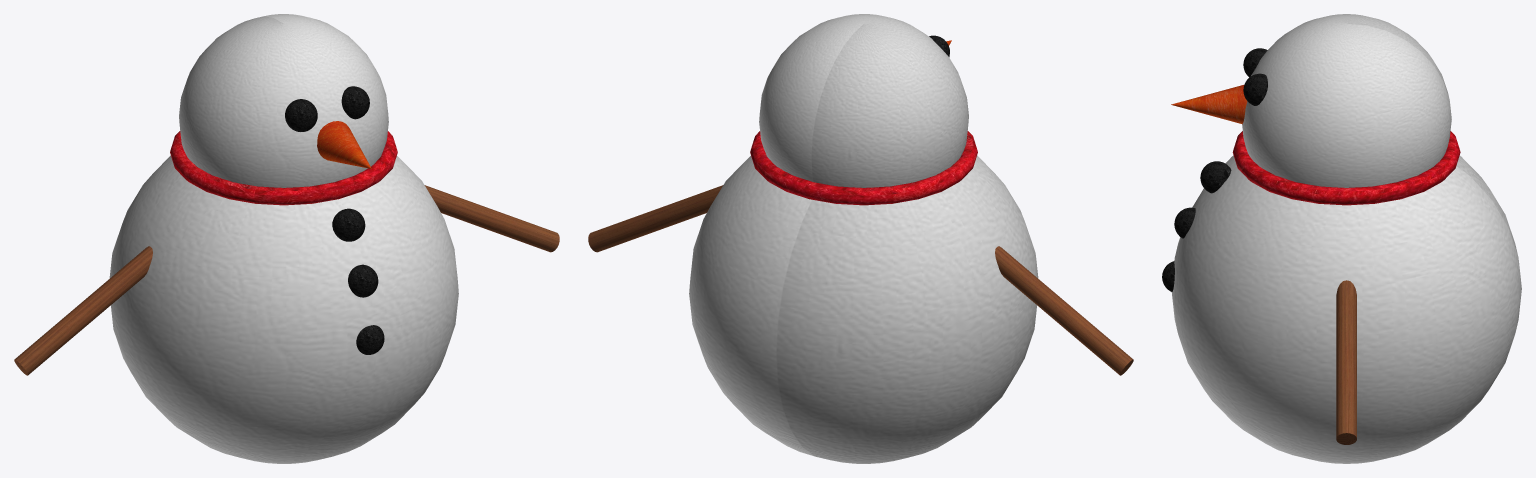
Rendered from Snowman(Decor).fbx.
The picture shows the model from 3 angles, left to right: view 1: azimuth 30°, elevation 25°; view 2: azimuth 150°, elevation 25°; view 3: azimuth 270°, elevation 25°; orthographic projection.
Visible parts, largest first — view 1: Body, Head, Scarf, Hand1, Hand2, Nose, Button2, Eye1, Button1, Eye2, Button3; view 2: Body, Head, Scarf, Hand1, Hand2; view 3: Body, Head, Scarf, Hand2, Nose, Button2, Eye2, Button1, Eye1.
Boxes of the visible parts, left/top/right/bottom form: Body: left=109, top=155, right=458, bottom=463; Head: left=179, top=14, right=388, bottom=187; Scarf: left=170, top=131, right=397, bottom=205; Hand1: left=14, top=246, right=152, bottom=375; Hand2: left=424, top=185, right=559, bottom=252; Nose: left=317, top=121, right=371, bottom=168; Button2: left=332, top=208, right=365, bottom=241; Eye1: left=285, top=99, right=317, bottom=131; Button1: left=348, top=264, right=378, bottom=297; Eye2: left=341, top=86, right=369, bottom=119; Button3: left=356, top=325, right=384, bottom=354; Body: left=689, top=155, right=1038, bottom=463; Head: left=759, top=14, right=968, bottom=187; Scarf: left=750, top=131, right=977, bottom=205; Hand1: left=995, top=246, right=1133, bottom=375; Hand2: left=588, top=185, right=723, bottom=252; Body: left=1171, top=155, right=1521, bottom=463; Head: left=1242, top=14, right=1451, bottom=187; Scarf: left=1232, top=131, right=1460, bottom=205; Hand2: left=1336, top=280, right=1356, bottom=444; Nose: left=1171, top=85, right=1247, bottom=124; Button2: left=1200, top=161, right=1231, bottom=193; Eye2: left=1243, top=73, right=1267, bottom=105; Button1: left=1174, top=207, right=1195, bottom=238; Eye1: left=1243, top=48, right=1267, bottom=77.
Size of the model in its own units: 178 by 133 by 103.
Materials: 5 (5 with a texture image).
